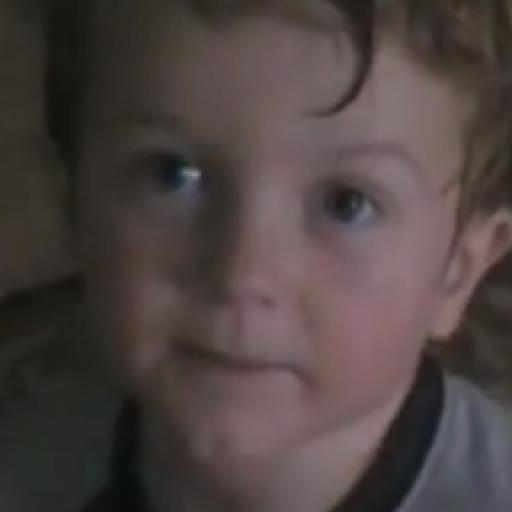Autism: (18, 0, 512, 443)
